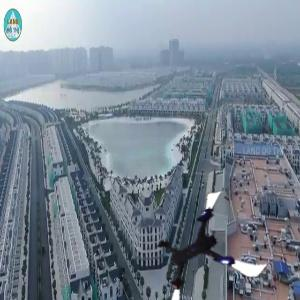drone: (152, 190, 262, 300)
